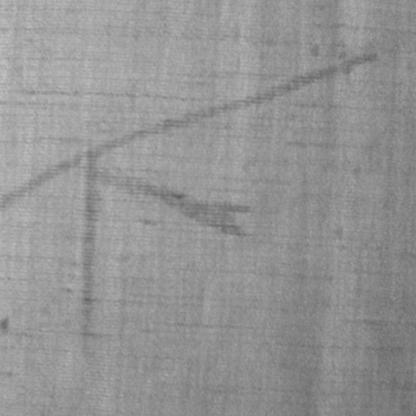oil spot: (0, 47, 384, 217), (92, 161, 254, 243), (82, 151, 99, 347)
